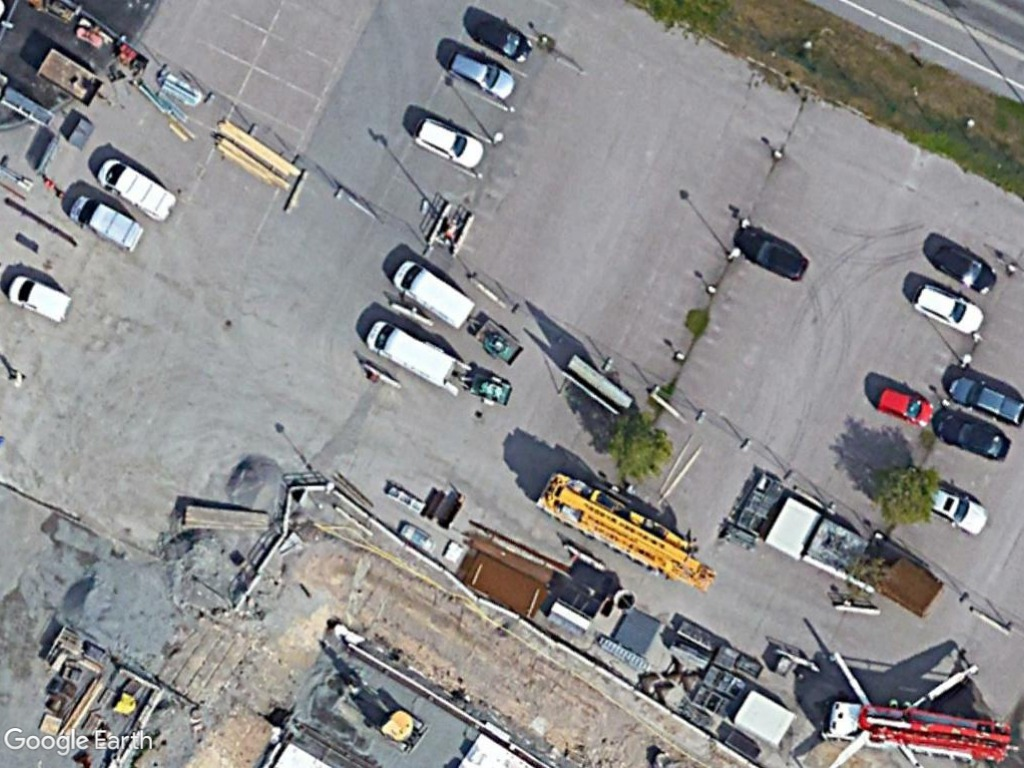car: (408, 114, 489, 175), (928, 403, 1011, 462), (909, 281, 990, 340), (446, 49, 522, 102), (931, 241, 1001, 298), (743, 231, 814, 285), (472, 15, 536, 66), (873, 384, 935, 428)
other: (947, 375, 1024, 431)
van: (361, 316, 466, 386), (388, 255, 480, 334), (95, 155, 181, 223), (66, 193, 149, 256), (5, 274, 77, 326)
